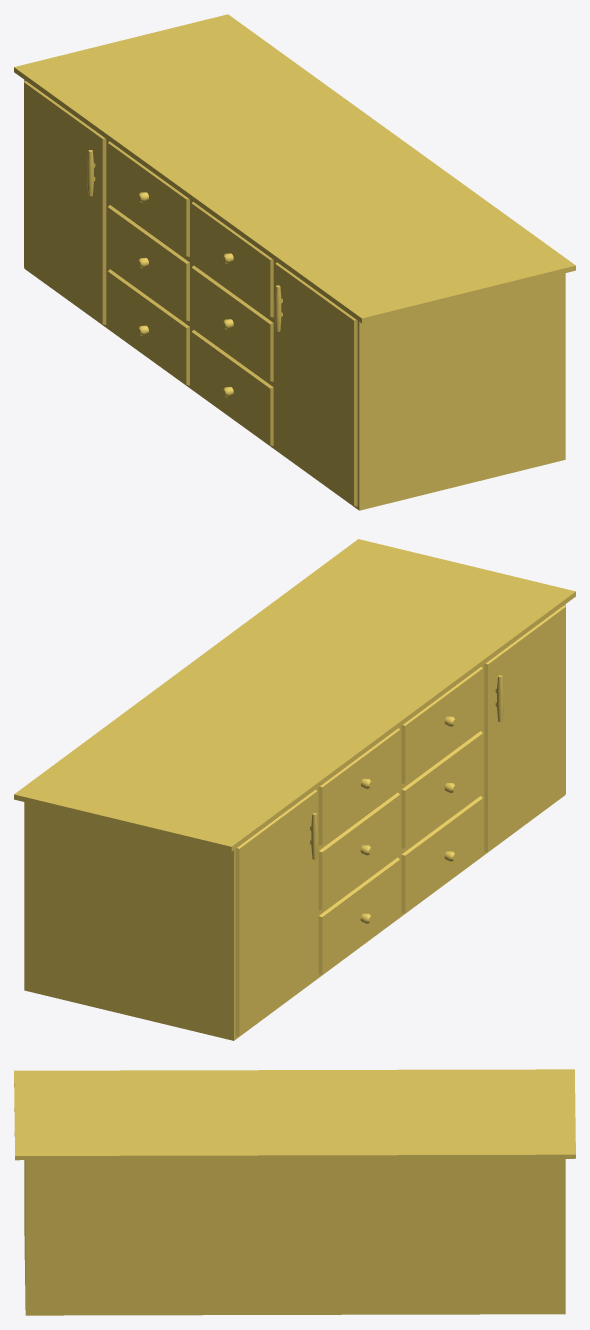
Rendered from Table 3_resized.FBX.
3 renders of one model, top to bottom at view 1: azimuth 30°, elevation 25°; view 2: azimuth 150°, elevation 25°; view 3: azimuth 270°, elevation 25°, orthographic. The views are drawn at different scales.
Parts seen in each view (by area): view 1: Table number 3, handles; view 2: Table number 3, handles; view 3: Table number 3.
Boxes of the visible parts, bbox=[...] form: Table number 3: bbox=[14, 14, 575, 510]; handles: bbox=[87, 150, 282, 331]; Table number 3: bbox=[14, 539, 575, 1040]; handles: bbox=[310, 675, 503, 859]; Table number 3: bbox=[14, 1069, 575, 1315].
Bounding box in the file's own units: 1.26 × 1.06 × 3.36.
